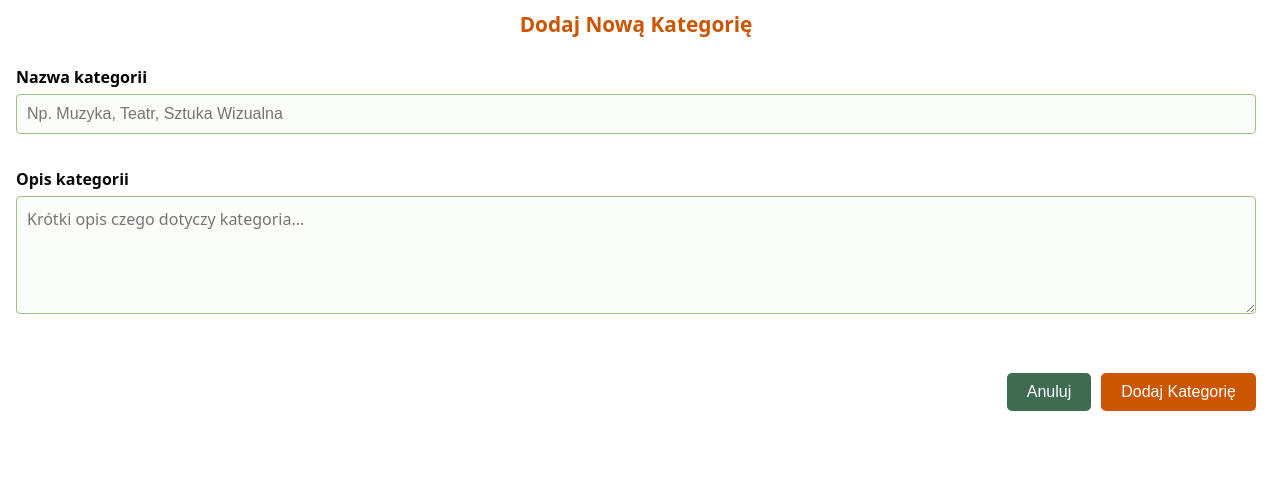
Test: CreateCategory Component › Client-side validation › shows error if name is too short
The image size is (1273, 483).
Type "No" into the field labelled "Nazwa kategorii" at (636, 114), box [16,94,1256,134]
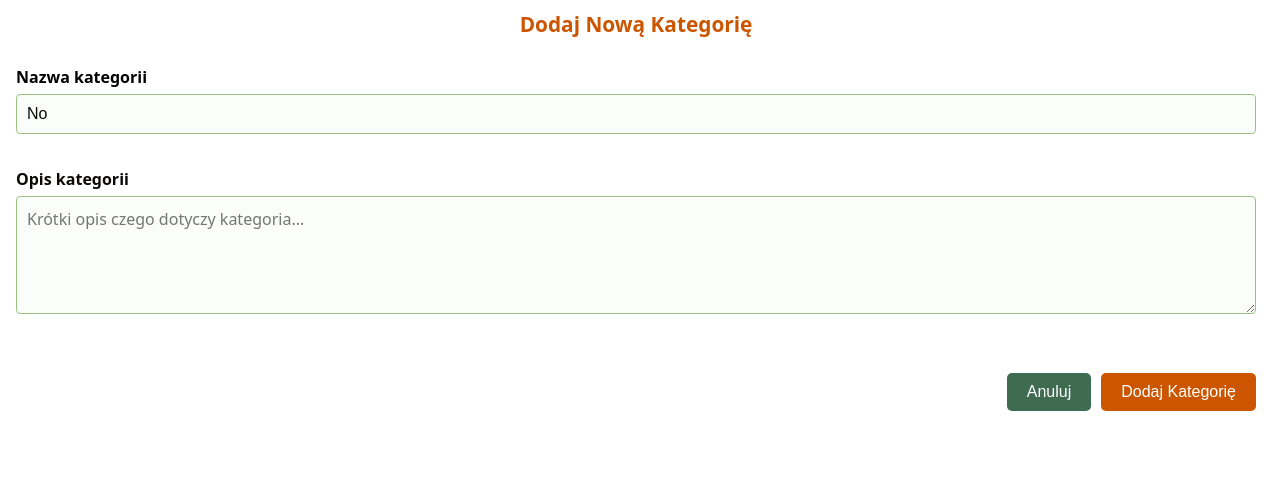
Click the button "Dodaj Kategorię" at (1179, 392), box [1101,373,1256,411]
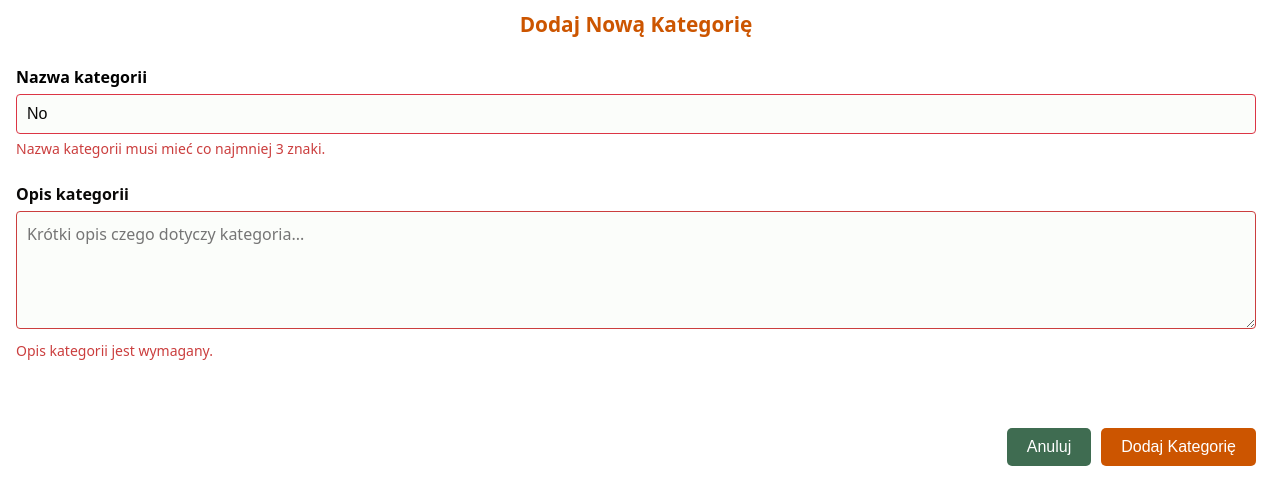
Now the text "Nazwa kategorii musi mieć co najmniej 3 znaki." is shown, box [16,139,325,158]
